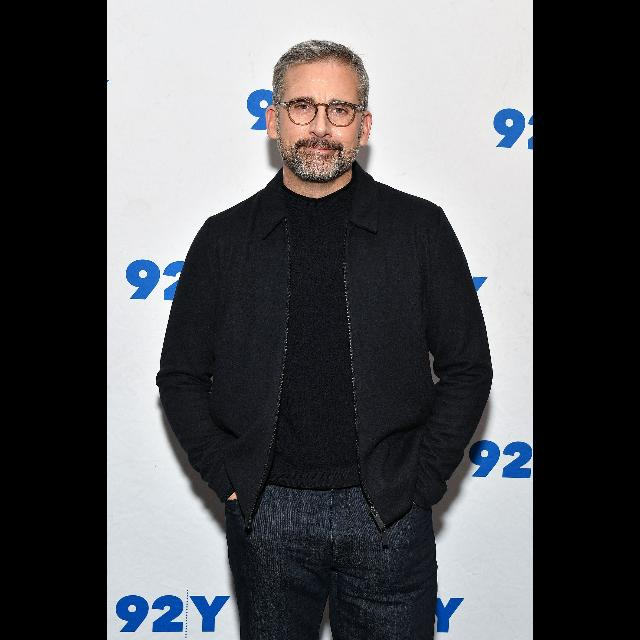glasses: (280, 98, 364, 128)
